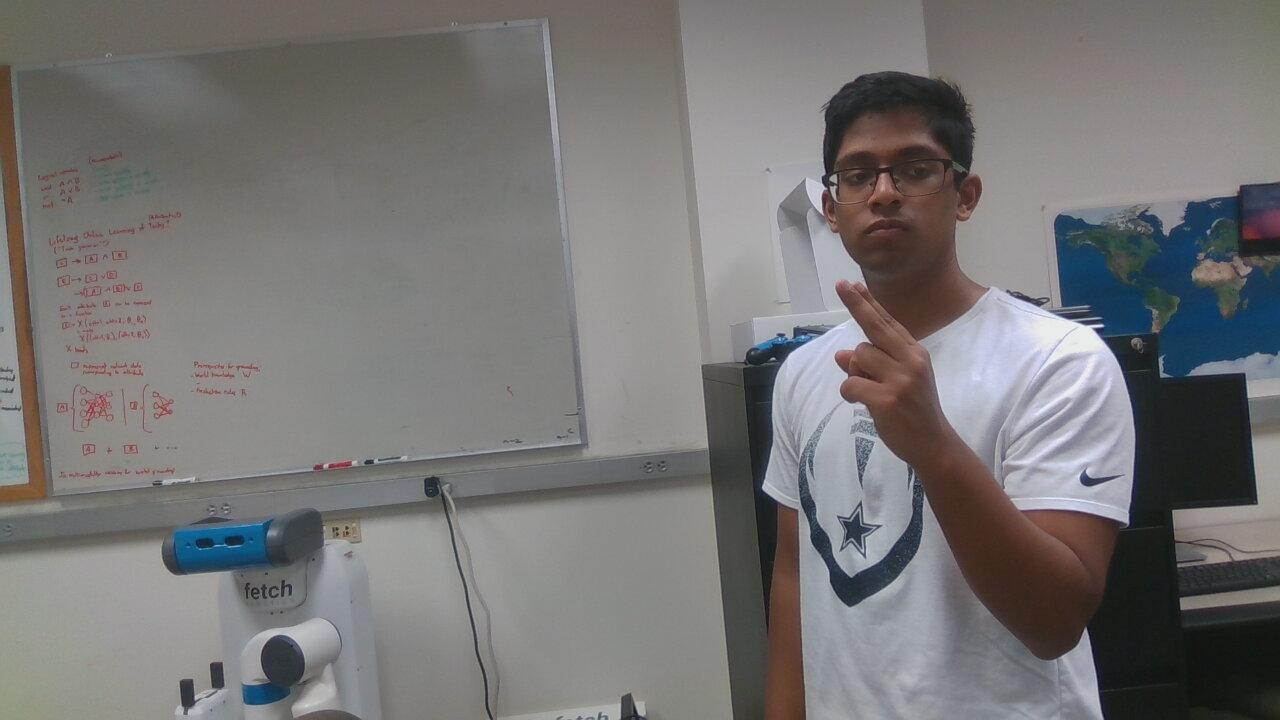hands: (782, 273, 1008, 465)
